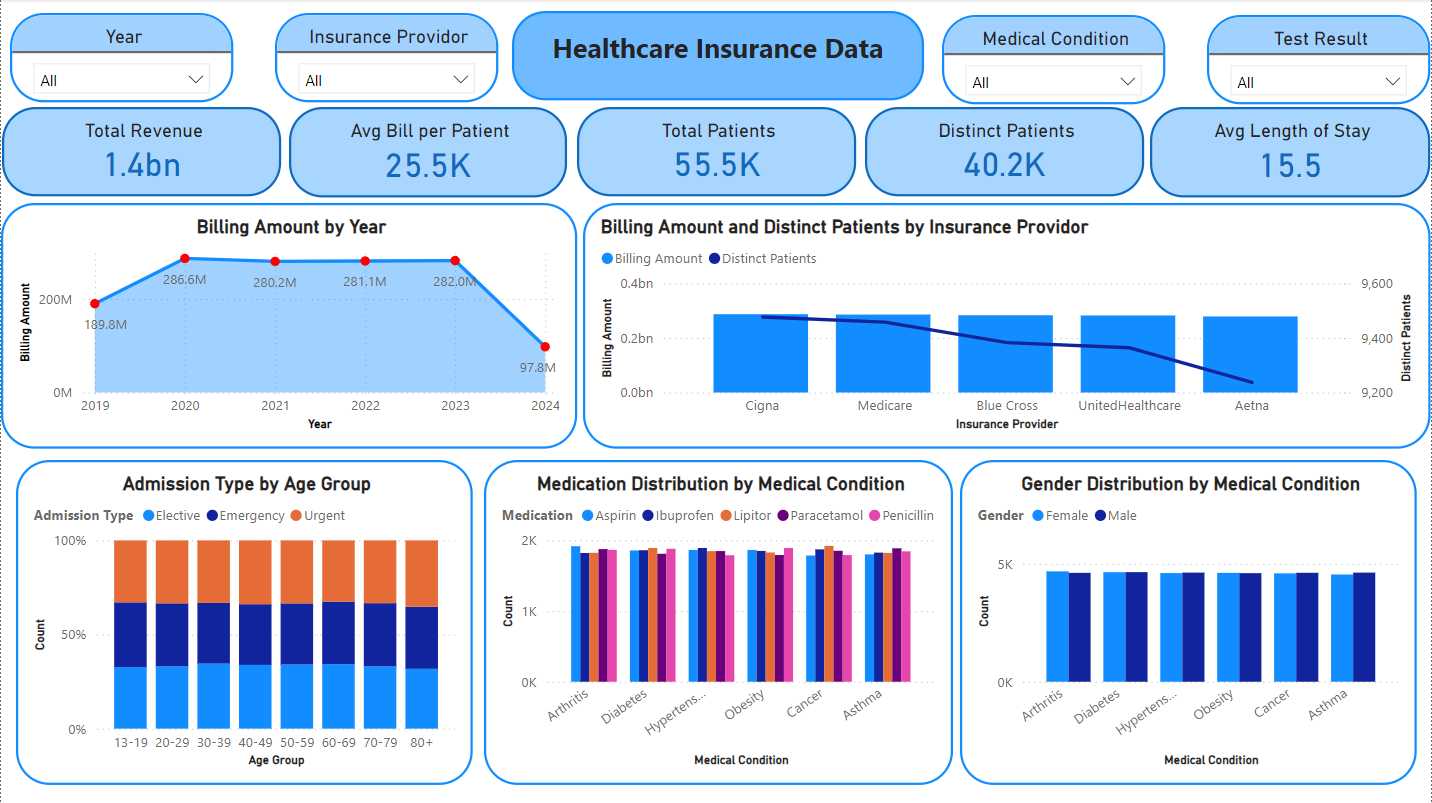

Layout of this report page (visuals, bound fields, positions):
{"tool":"powerbi","page":{"name":"Page 1","canvas":[1280,720],"ordinal":0},"visuals":[{"type":"lineChart","title":"Billing Amount by Year","fields":{"Y":["Sum(transformed_df (2).Billing Amount)"],"Category":["transformed_df (2).Date of Admission.Variation.Date Hierarchy.Year"]},"box":[0,182.5,516.3,219.7],"z":0},{"type":"card","title":"Avg Length of Stay","fields":{"Values":["Avg(transformed_df (2).Length of Stay)"]},"box":[1029.3,96.8,251.1,80.5],"z":1000},{"type":"card","title":"Total Revenue","fields":{"Values":["Sum(transformed_df (2).Billing Amount)"]},"box":[0.7,97,250,80],"z":2000},{"type":"card","title":"Distinct Patients","fields":{"Values":["Count(transformed_df (2).Name)"]},"box":[774.1,97,249.6,80],"z":3000},{"type":"card","title":"Total Patients","fields":{"Values":["CountNonNull(transformed_df (2).Name)"]},"box":[515.9,97,249.6,80],"z":4000},{"type":"card","title":"Avg Bill per Patient","fields":{"Values":["transformed_df (2).Billing Amount divided by Count of Name"]},"box":[258.4,96.8,248.7,80.5],"z":5000},{"type":"hundredPercentStackedColumnChart","title":"Admission Type by Age Group","fields":{"Category":["transformed_df (2).age_group"],"Y":["CountNonNull(transformed_df (2).Name)"],"Series":["transformed_df (2).Admission Type"]},"box":[13.2,413.1,409.5,290.6],"z":6000},{"type":"clusteredColumnChart","title":"Gender Distribution by Medical Condition","fields":{"Y":["CountNonNull(transformed_df (2).Name)"],"Category":["transformed_df (2).Medical Condition"],"Series":["transformed_df (2).Gender"]},"box":[858.5,413.1,409.5,290.6],"z":7000},{"type":"textbox","box":[457.5,10.8,368.6,80.5],"z":8000},{"type":"clusteredColumnChart","title":"Medication Distribution by Medical Condition","fields":{"Category":["transformed_df (2).Medical Condition"],"Series":["transformed_df (2).Medication"],"Y":["CountNonNull(transformed_df (2).Name)"]},"box":[432.3,413.1,420.3,290.6],"z":9000},{"type":"slicer","title":"Year","fields":{"Values":["transformed_df (2).Date of Admission.Variation.Date Hierarchy.Year"]},"box":[8.4,12.1,200,80],"z":10000},{"type":"slicer","title":"Insurance Providor","fields":{"Values":["transformed_df (2).Insurance Provider"]},"box":[245.6,12.1,200,80],"z":11000},{"type":"slicer","title":"Medical Condition","fields":{"Values":["transformed_df (2).Medical Condition"]},"box":[842.8,14,200,80],"z":12000},{"type":"slicer","title":"Test Result","fields":{"Values":["transformed_df (2).Test Results"]},"box":[1080,14,200,80],"z":13000},{"type":"lineStackedColumnComboChart","title":"Billing Amount and Distinct Patients by Insurance Providor","fields":{"Y":["Sum(transformed_df (2).Billing Amount)"],"Y2":["Count(transformed_df (2).Name)"],"Category":["transformed_df (2).Insurance Provider"]},"box":[521.1,182.5,758.9,219.7],"z":14000}]}

Visuals, with their boxes in screenshot pixels (x1, y1, x2, y2), scaled from the page's 1280x720 canvas onto the 1432x803 screenshot:
"Billing Amount by Year" lineChart: <region>0, 204, 578, 449</region>
"Avg Length of Stay" card: <region>1152, 108, 1431, 198</region>
"Total Revenue" card: <region>1, 108, 280, 197</region>
"Distinct Patients" card: <region>866, 108, 1145, 197</region>
"Total Patients" card: <region>577, 108, 856, 197</region>
"Avg Bill per Patient" card: <region>289, 108, 567, 198</region>
"Admission Type by Age Group" hundredPercentStackedColumnChart: <region>15, 461, 473, 785</region>
"Gender Distribution by Medical Condition" clusteredColumnChart: <region>960, 461, 1419, 785</region>
textbox: <region>512, 12, 924, 102</region>
"Medication Distribution by Medical Condition" clusteredColumnChart: <region>484, 461, 954, 785</region>
"Year" slicer: <region>9, 13, 233, 103</region>
"Insurance Providor" slicer: <region>275, 13, 499, 103</region>
"Medical Condition" slicer: <region>943, 16, 1167, 105</region>
"Test Result" slicer: <region>1208, 16, 1431, 105</region>
"Billing Amount and Distinct Patients by Insurance Providor" lineStackedColumnComboChart: <region>583, 204, 1431, 449</region>
